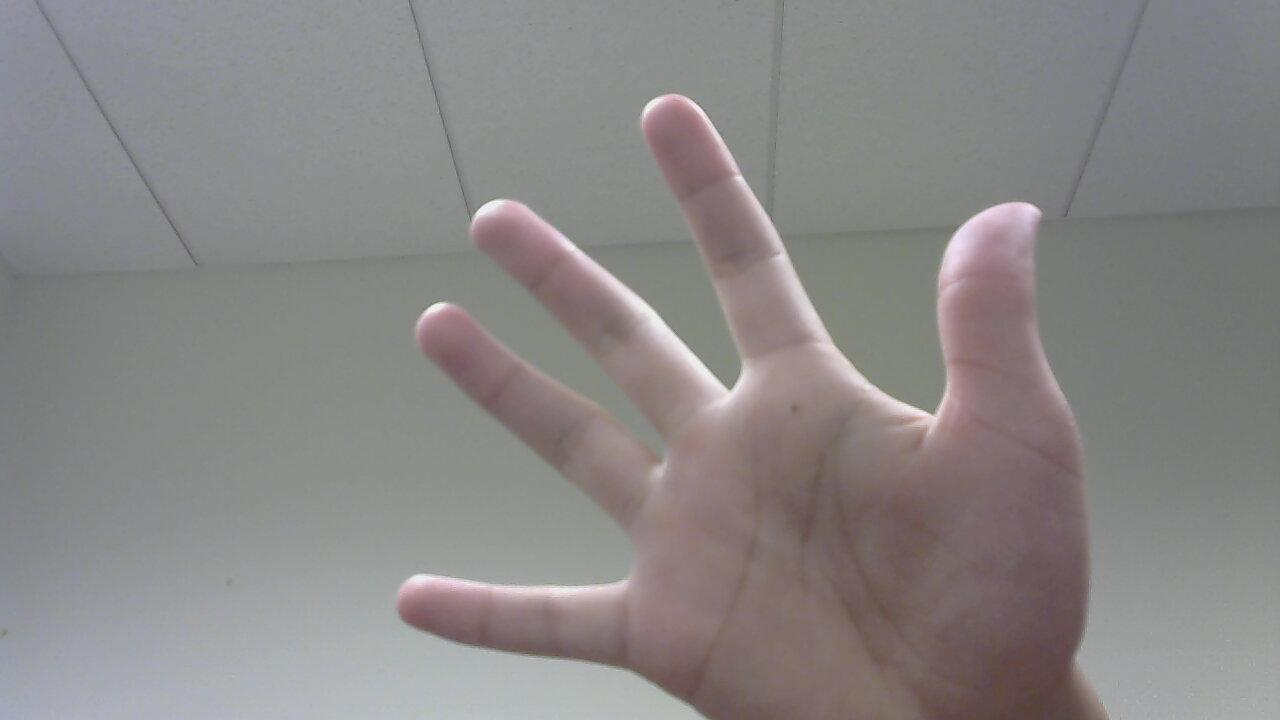hands: (356, 87, 1205, 720)
